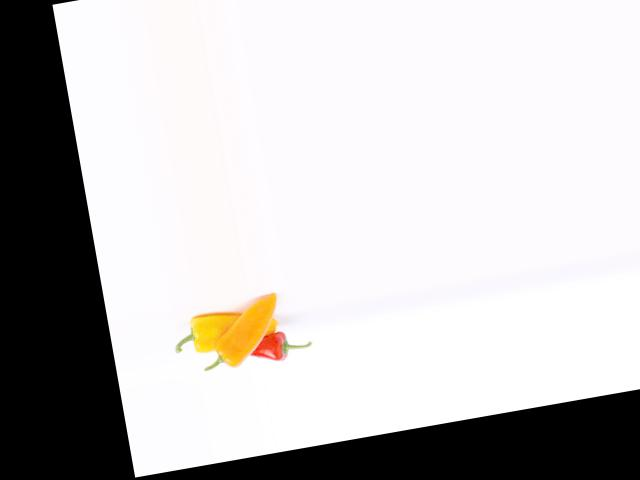bell_pepper: (165, 299, 255, 362)
